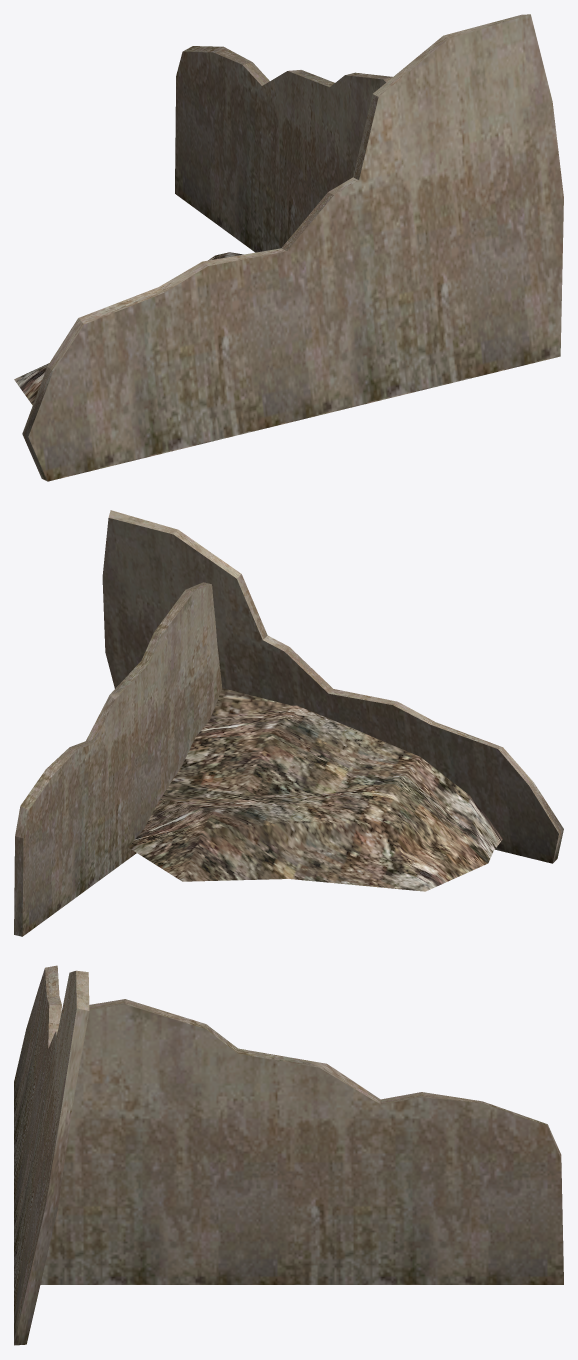
Rendered from Rbl_P3.glb.
3 views of the same model, one above another, from view 1: azimuth 30°, elevation 25°; view 2: azimuth 150°, elevation 25°; view 3: azimuth 270°, elevation 25° (orthographic). The views are drawn at different scales.
Visible parts, largest first — view 1: _Rbl_P3; view 2: _Rbl_P3; view 3: _Rbl_P3.
Part boxes in pixels (<box>): _Rbl_P3: <box>14,14,563,481</box>; _Rbl_P3: <box>14,510,563,936</box>; _Rbl_P3: <box>14,965,563,1345</box>.
Size of the model in its own units: 7.74 by 4.37 by 6.43.
2 materials, 2 textured.
